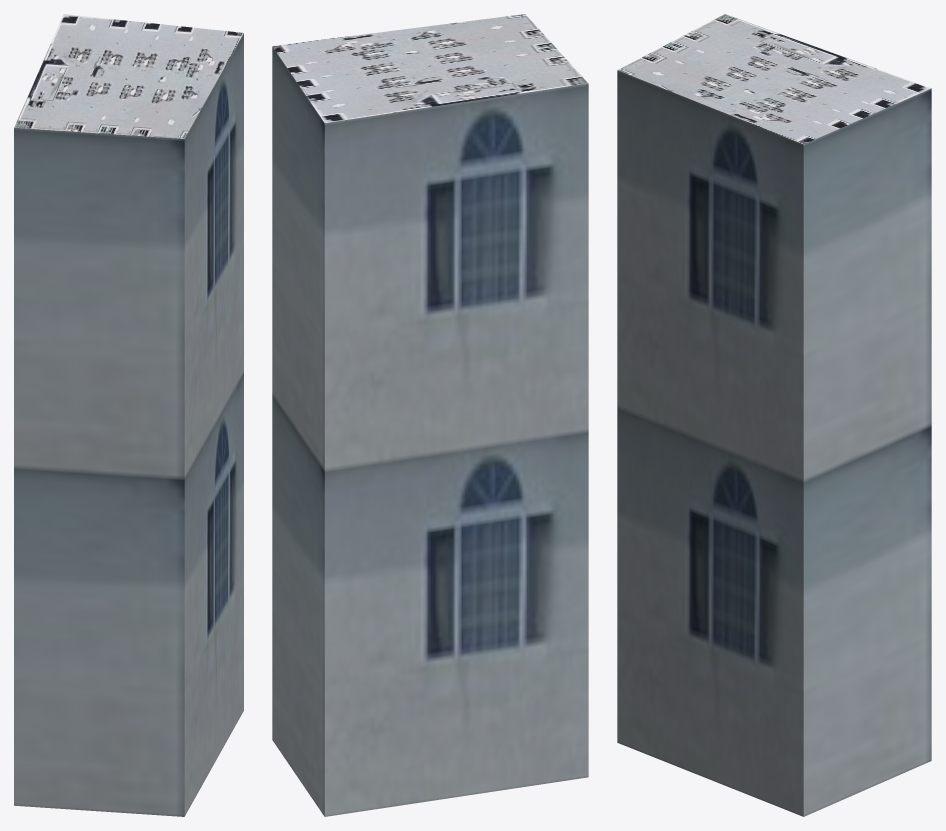
Rendered from ResTex__2877.fbx.
The picture shows the model from 3 angles, left to right: view 1: azimuth 30°, elevation 25°; view 2: azimuth 150°, elevation 25°; view 3: azimuth 270°, elevation 25°; orthographic projection. The views are drawn at different scales.
Visible parts, largest first — view 1: CityEngineMaterial_17_m, CityEngineMaterial_8_m; view 2: CityEngineMaterial_17_m, CityEngineMaterial_8_m; view 3: CityEngineMaterial_17_m, CityEngineMaterial_8_m.
Boxes of the visible parts, x1=… form: CityEngineMaterial_17_m: x1=14, y1=33, x2=243, y2=816; CityEngineMaterial_8_m: x1=14, y1=14, x2=243, y2=138; CityEngineMaterial_17_m: x1=272, y1=46, x2=588, y2=816; CityEngineMaterial_8_m: x1=272, y1=14, x2=588, y2=122; CityEngineMaterial_17_m: x1=617, y1=70, x2=931, y2=816; CityEngineMaterial_8_m: x1=618, y1=14, x2=930, y2=144.
Size of the model in its own units: 2.5 by 6 by 2.54.
2 materials, 2 textured.
